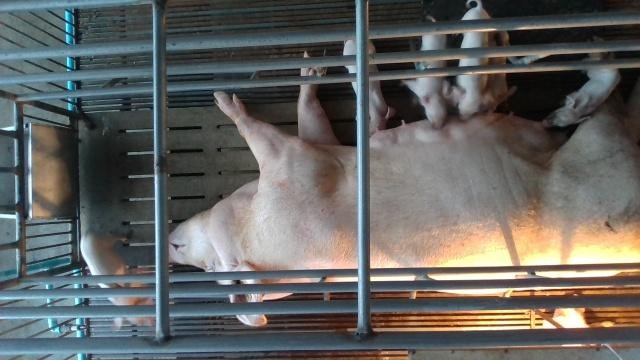piglet: (82, 231, 154, 327), (403, 15, 455, 130), (344, 40, 396, 135), (455, 0, 486, 114), (551, 68, 616, 120), (488, 24, 519, 113)
sow-sleep-lactate: (168, 17, 640, 327)
